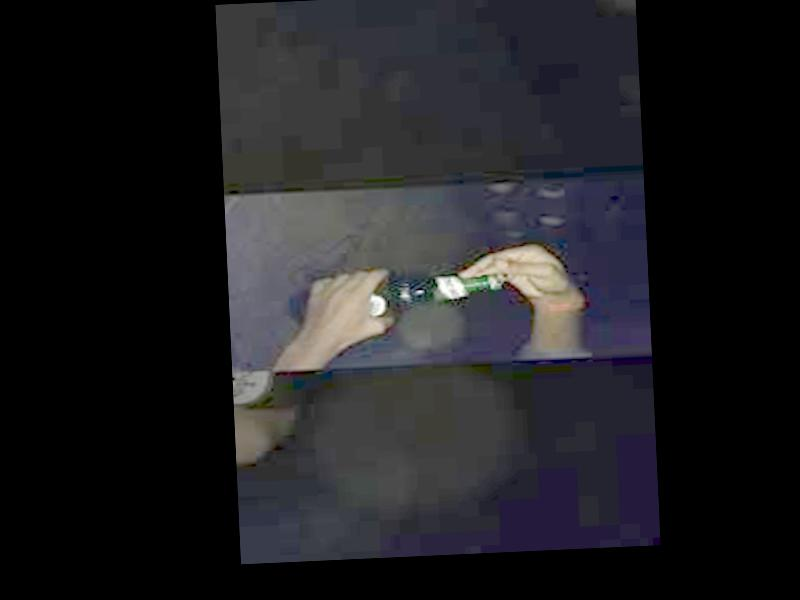Beer: (290, 268, 502, 330)
